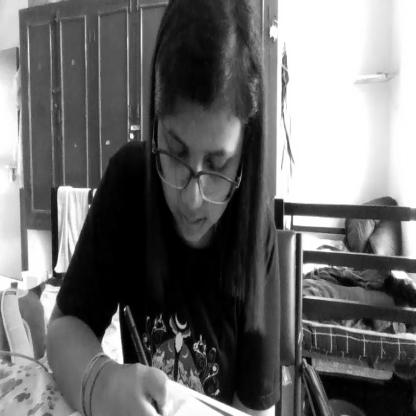Normal: (150, 4, 257, 268)
